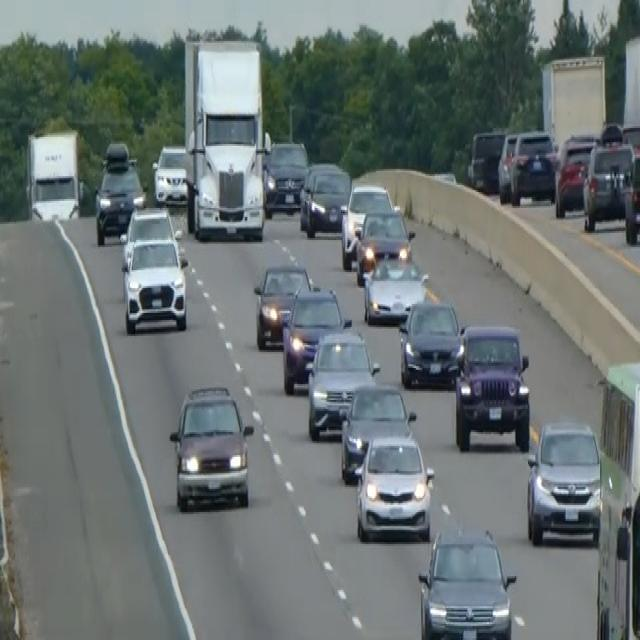car: (417, 516, 516, 638), (168, 380, 254, 512), (525, 418, 601, 546), (354, 430, 434, 542), (306, 325, 380, 439), (339, 380, 415, 482), (281, 283, 351, 393), (121, 235, 188, 334), (398, 297, 464, 389), (252, 262, 312, 351), (362, 249, 429, 325), (581, 139, 635, 231), (354, 204, 415, 284), (340, 180, 394, 268), (94, 158, 145, 244), (553, 131, 599, 217), (299, 160, 351, 236), (508, 128, 556, 204), (262, 137, 308, 215), (119, 203, 179, 261), (466, 126, 506, 192), (151, 143, 188, 205), (622, 147, 639, 245), (496, 130, 518, 201)
jeep: (452, 320, 531, 453)
lorry: (182, 35, 269, 242)
